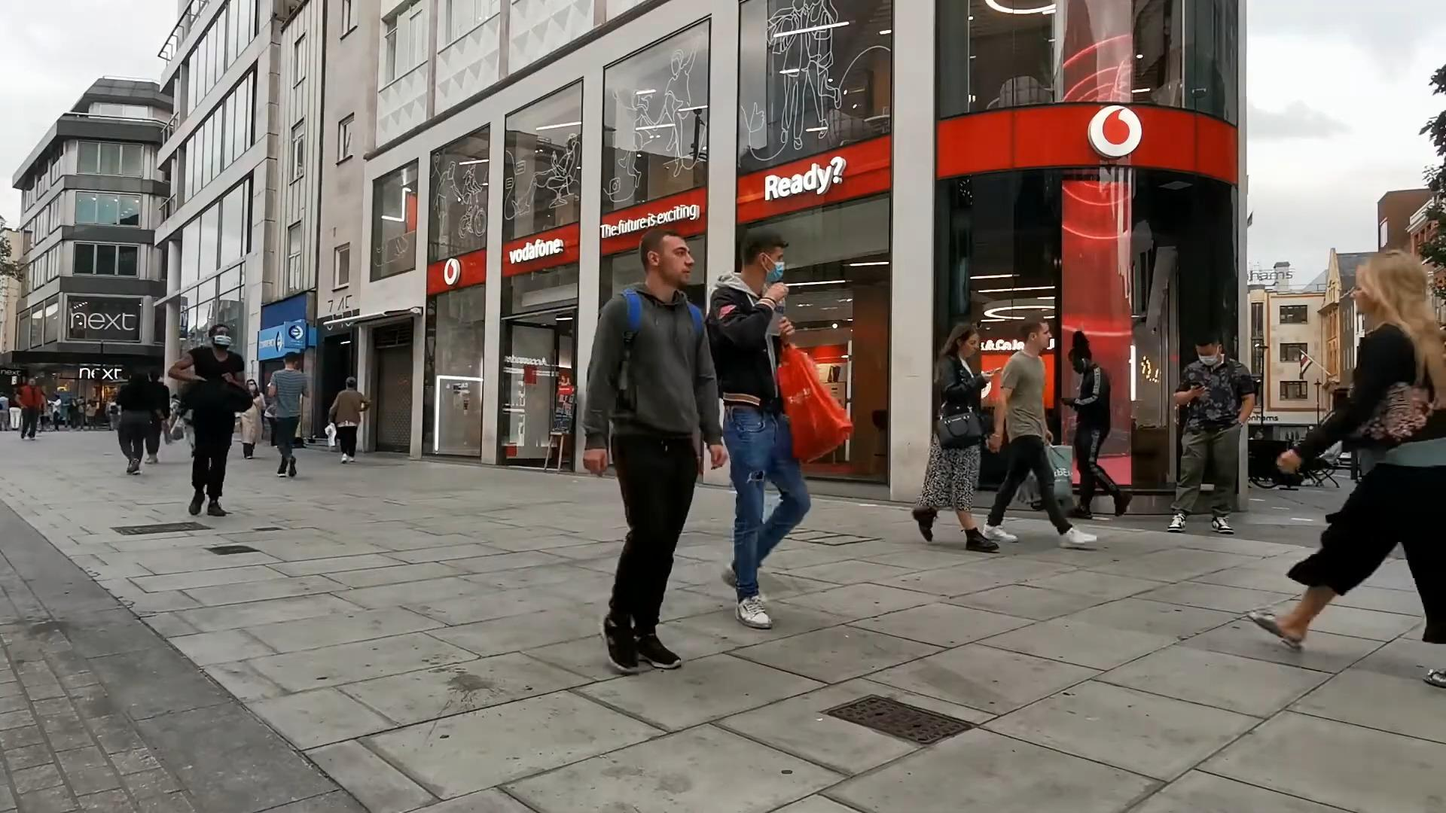no-helmet: (1349, 248, 1440, 327), (639, 227, 695, 289), (739, 226, 789, 284), (1019, 313, 1053, 350), (948, 321, 981, 358), (1068, 330, 1093, 375), (1194, 332, 1223, 366), (208, 323, 232, 350), (283, 351, 300, 367), (246, 378, 258, 393), (346, 376, 356, 389)
